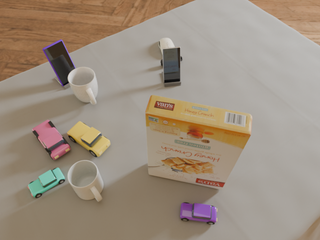box: (145, 95, 252, 190)
cup: (68, 160, 103, 202), (68, 67, 98, 105)
mouse: (159, 38, 174, 52)
phone: (43, 40, 76, 86), (162, 47, 180, 83)
toy_car: (32, 120, 71, 160), (67, 121, 110, 157), (28, 168, 65, 198), (180, 202, 217, 224)
